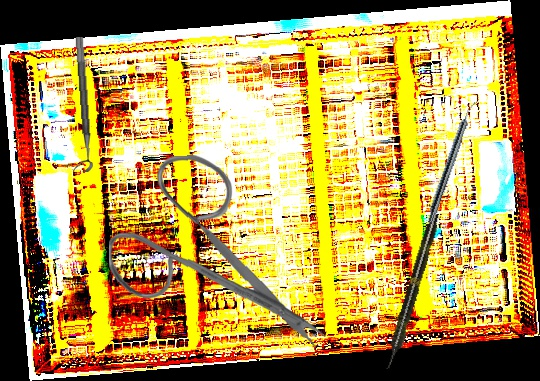Fixation Ring: (63, 36, 94, 174)
Handpiece: (381, 211, 443, 372), (424, 97, 479, 226)
Iris Scissors: (107, 153, 327, 352)
